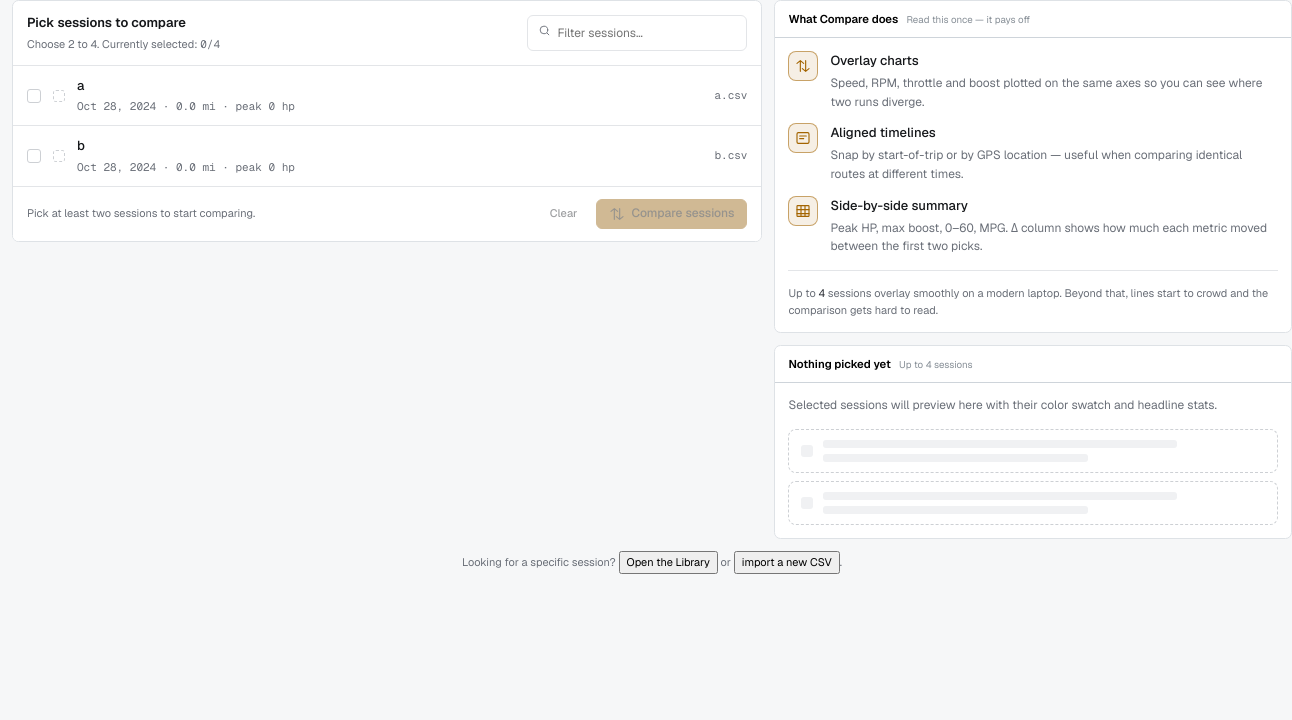
Scenario: pages/compare-logs/pick-stage › one-picked state shows the warn need-more line
The image size is (1292, 720).
Click the button with test id "picker-row-s_1".
click(117, 106)  # box [13,66,761,126]
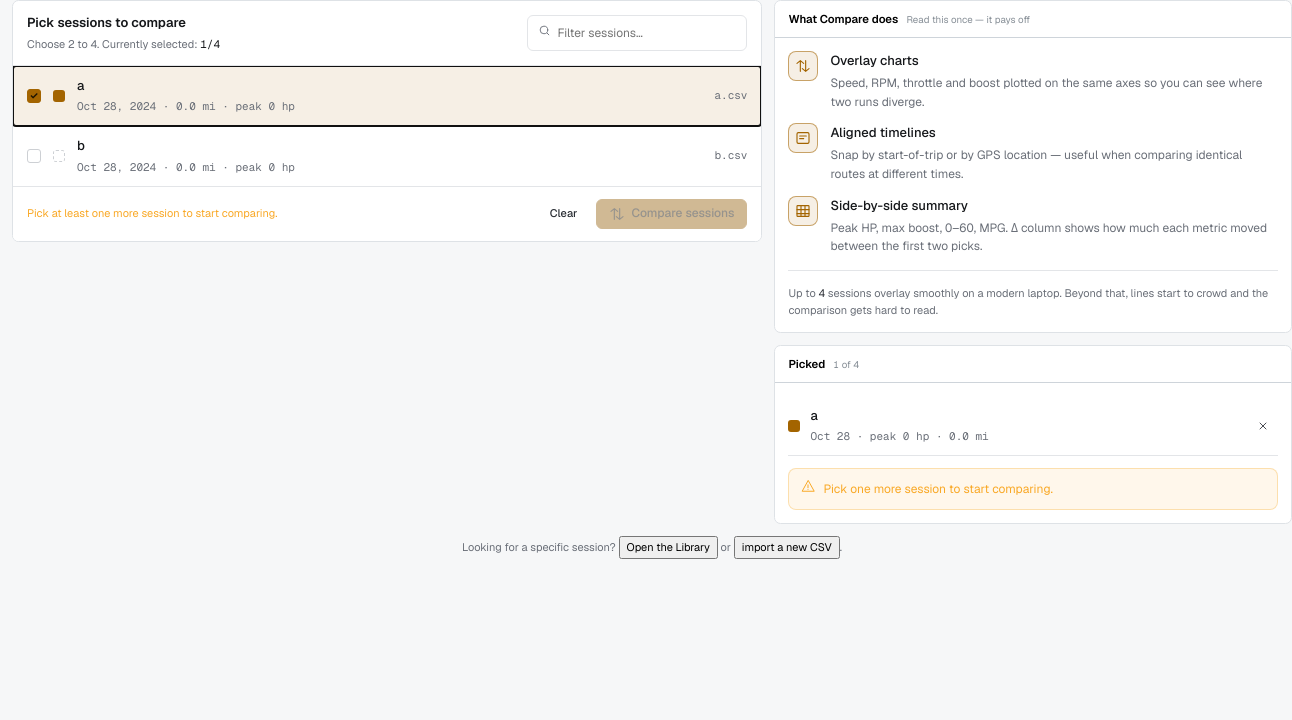
Expected: the element with test id "picker-need-more" is shown, [788,468,1278,510]
